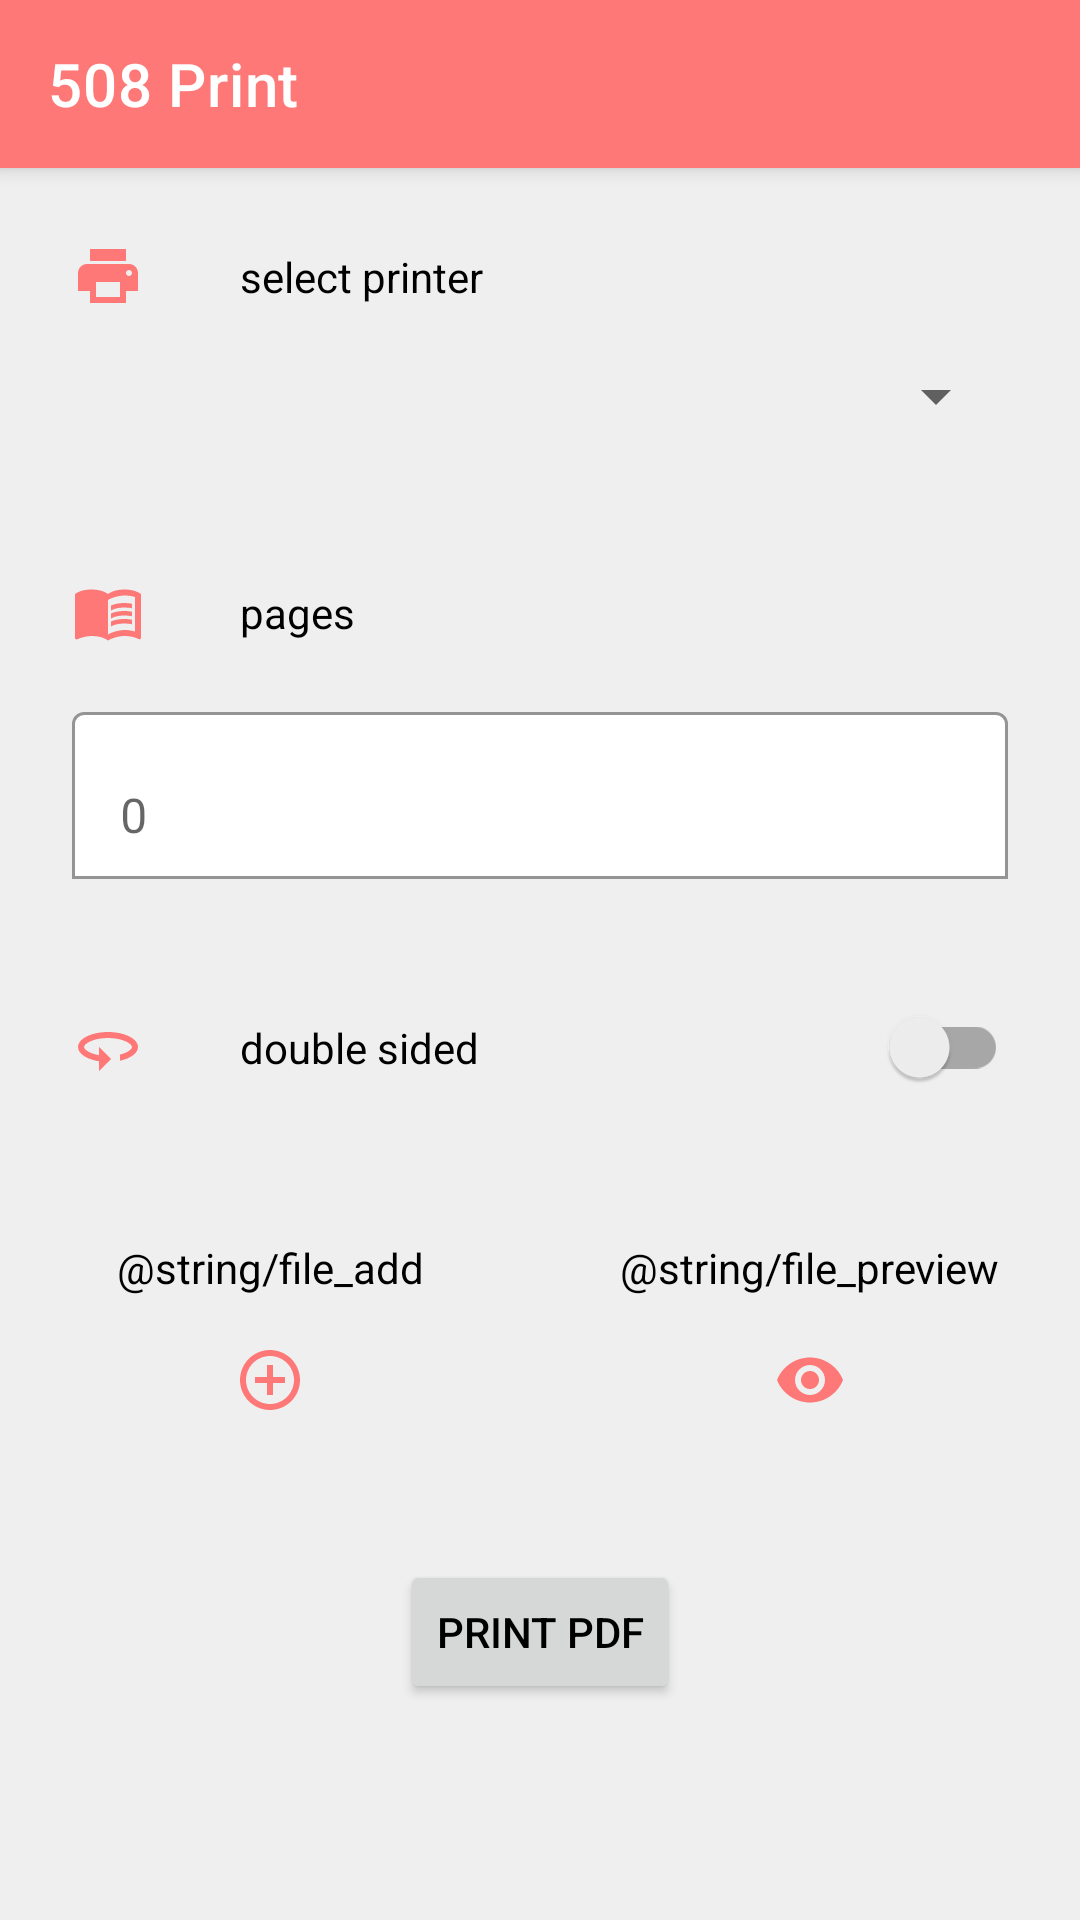

Icons on this 1080 x 1920 Android screen, each with the point to tap as [x,y]:
add circle: [270,1380]
book: [108,615]
